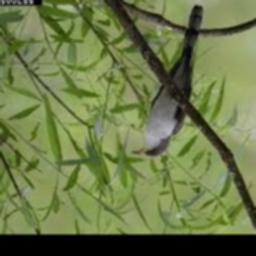Cuckoo: (133, 5, 204, 157)
